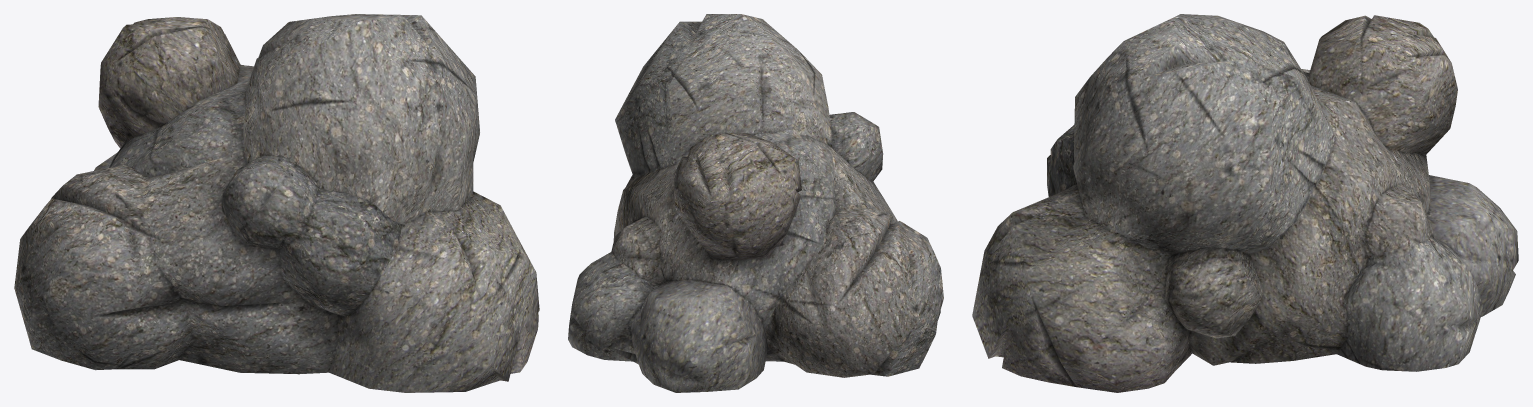
File: Stoun.FBX
3 renders of one model, left to right at view 1: azimuth 30°, elevation 25°; view 2: azimuth 150°, elevation 25°; view 3: azimuth 270°, elevation 25°, orthographic. The views are drawn at different scales.
Visible parts, largest first — view 1: Box001; view 2: Box001; view 3: Box001.
Boxes of the visible parts, x1,y1,x2,y2 form: Box001: (14,14,539,392); Box001: (568,14,943,392); Box001: (972,14,1518,392).
Bounding box in the file's own units: 39.9 × 28.65 × 44.96.
